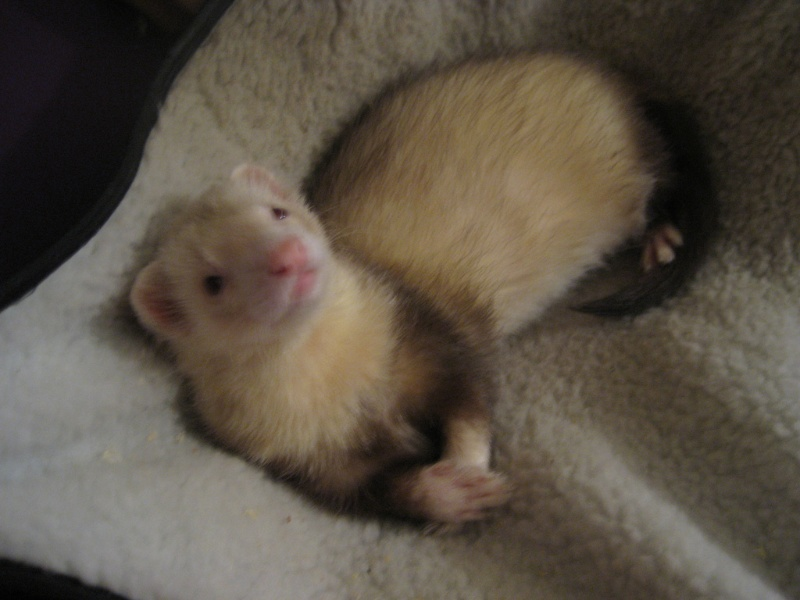minkish: (122, 39, 707, 533)
